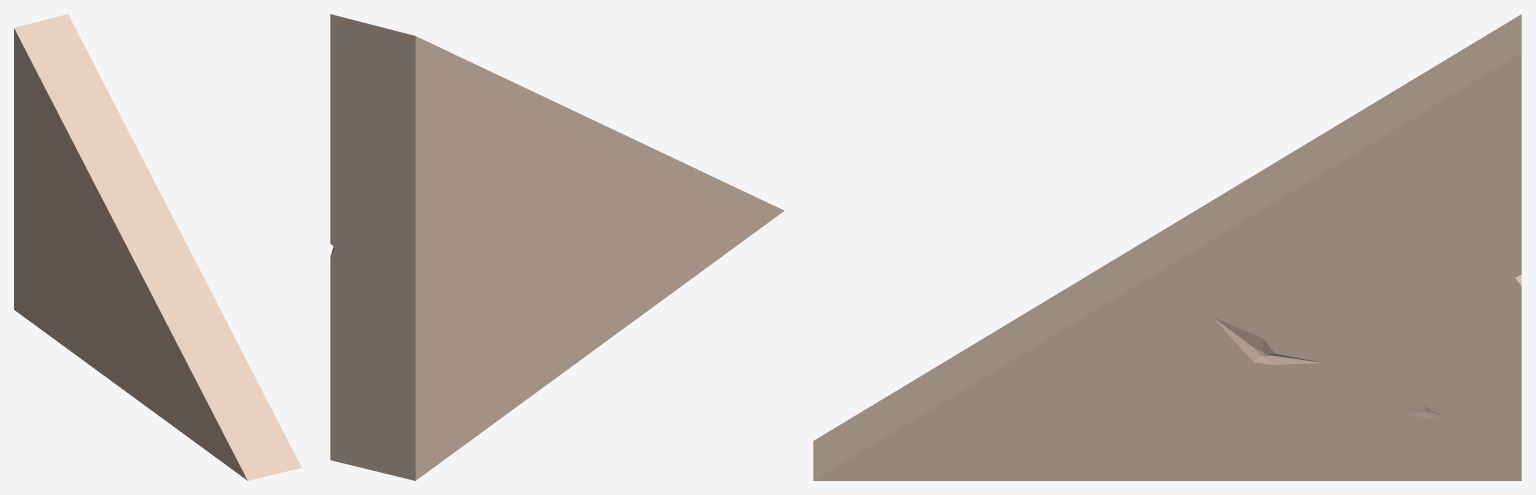
File: greek_roof_end.fbx
3 views of the same model, side by side, from view 1: azimuth 30°, elevation 25°; view 2: azimuth 150°, elevation 25°; view 3: azimuth 270°, elevation 25° (orthographic). The views are drawn at different scales.
Visible parts, largest first — view 1: Cube.040; view 2: Cube.040; view 3: Cube.040.
Boxes of the visible parts, bbox=[...] form: Cube.040: bbox=[14, 14, 301, 480]; Cube.040: bbox=[330, 14, 784, 480]; Cube.040: bbox=[813, 14, 1521, 480].
Size of the model in its own units: 40 by 200 by 300.
